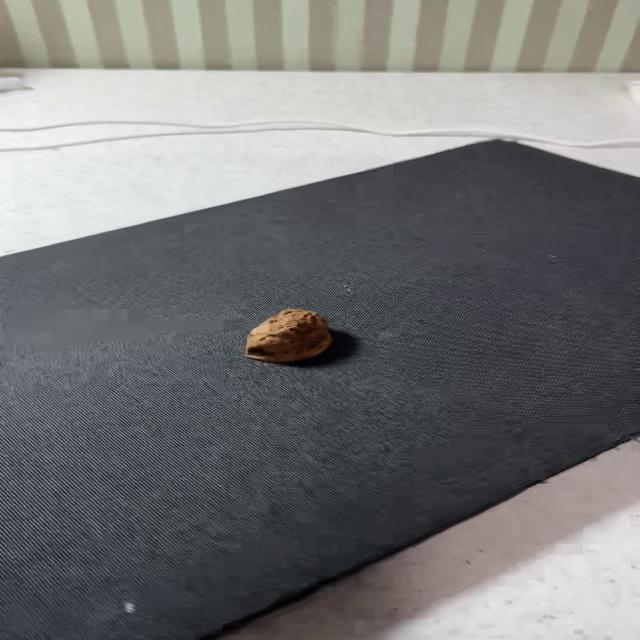nuts-bad0.25: (245, 309, 332, 363)
